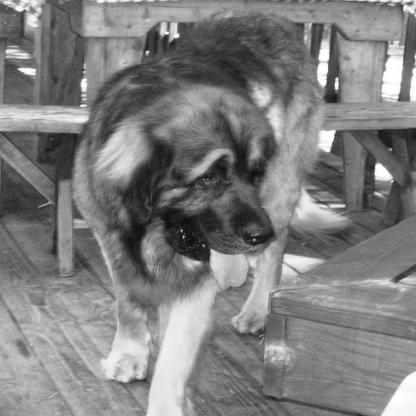Leonberger: (74, 10, 344, 358)
